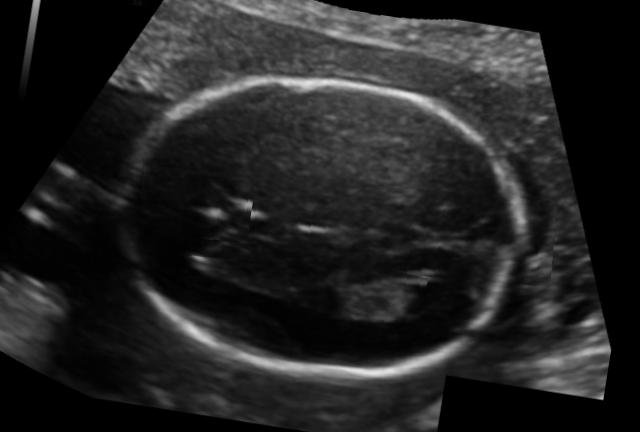CHOROID_PLEXUS: (320, 258, 428, 330)
CSP: (178, 172, 256, 246)
MIDLINE_FALX: (132, 144, 560, 308)
